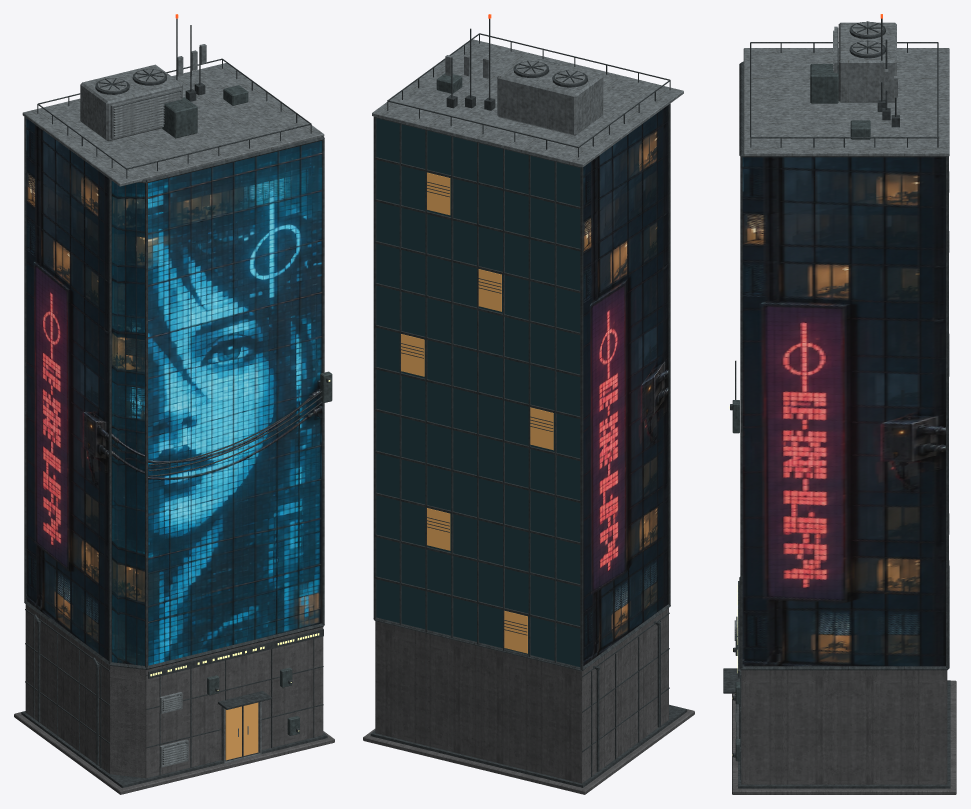
Rendered from media-tower.glb.
The picture shows the model from 3 angles, left to right: view 1: azimuth 30°, elevation 25°; view 2: azimuth 150°, elevation 25°; view 3: azimuth 270°, elevation 25°; orthographic projection. The views are drawn at different scales.
Visible parts, largest first — view 1: CBM1_MediaTower_ApprovedMedia, CBM1_MediaTower_Concrete, CBM1_MediaTower_AgedAluminium, CBM1_MediaTower_Gunmetal, CBM1_MediaTower_ServiceGreen, CBM1_MediaTower_InteriorAmber; view 2: CBM1_MediaTower_TealGlass, CBM1_MediaTower_ApprovedMedia, CBM1_MediaTower_Concrete, CBM1_MediaTower_Gunmetal, CBM1_MediaTower_AgedAluminium, CBM1_MediaTower_InteriorAmber; view 3: CBM1_MediaTower_ApprovedMedia, CBM1_MediaTower_Concrete, CBM1_MediaTower_AgedAluminium, CBM1_MediaTower_Gunmetal, CBM1_MediaTower_ServiceGreen.
Boxes of the visible parts, x1,y1,x2,y2 form: CBM1_MediaTower_ApprovedMedia: [26, 118, 322, 665]; CBM1_MediaTower_Concrete: [14, 604, 334, 794]; CBM1_MediaTower_AgedAluminium: [22, 44, 324, 767]; CBM1_MediaTower_Gunmetal: [21, 18, 330, 787]; CBM1_MediaTower_ServiceGreen: [162, 85, 332, 735]; CBM1_MediaTower_InteriorAmber: [225, 702, 258, 760]; CBM1_MediaTower_TealGlass: [376, 118, 580, 666]; CBM1_MediaTower_ApprovedMedia: [583, 105, 668, 665]; CBM1_MediaTower_Concrete: [363, 608, 694, 794]; CBM1_MediaTower_Gunmetal: [370, 18, 687, 787]; CBM1_MediaTower_AgedAluminium: [372, 39, 683, 167]; CBM1_MediaTower_InteriorAmber: [401, 172, 553, 653]; CBM1_MediaTower_ApprovedMedia: [742, 157, 945, 666]; CBM1_MediaTower_Concrete: [732, 670, 956, 794]; CBM1_MediaTower_AgedAluminium: [734, 22, 949, 738]; CBM1_MediaTower_Gunmetal: [723, 18, 950, 788]; CBM1_MediaTower_ServiceGreen: [732, 64, 870, 761].
Bounding box in the file's own units: 11.2 × 34.71 × 9.98.
Materials: 9 (5 with a texture image).
